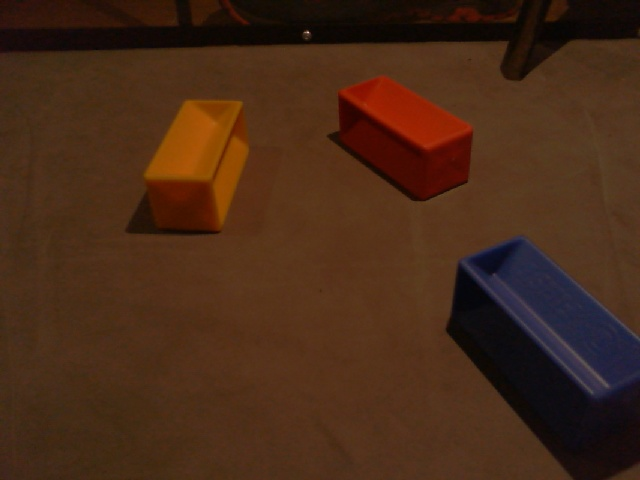BlueSample: (449, 232, 640, 462)
RedSample: (337, 75, 474, 202)
YellowSample: (141, 96, 250, 235)
